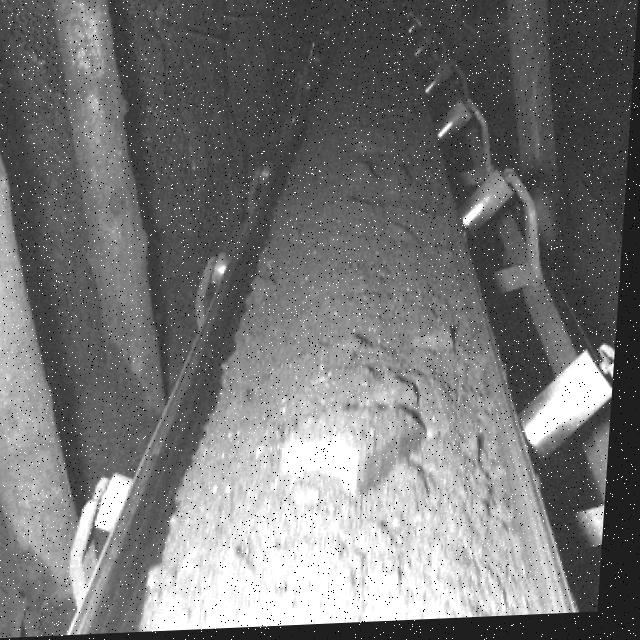large_sized_coal: (285, 409, 435, 498)
